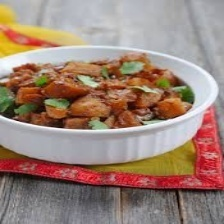sabzi: (0, 53, 195, 130)
